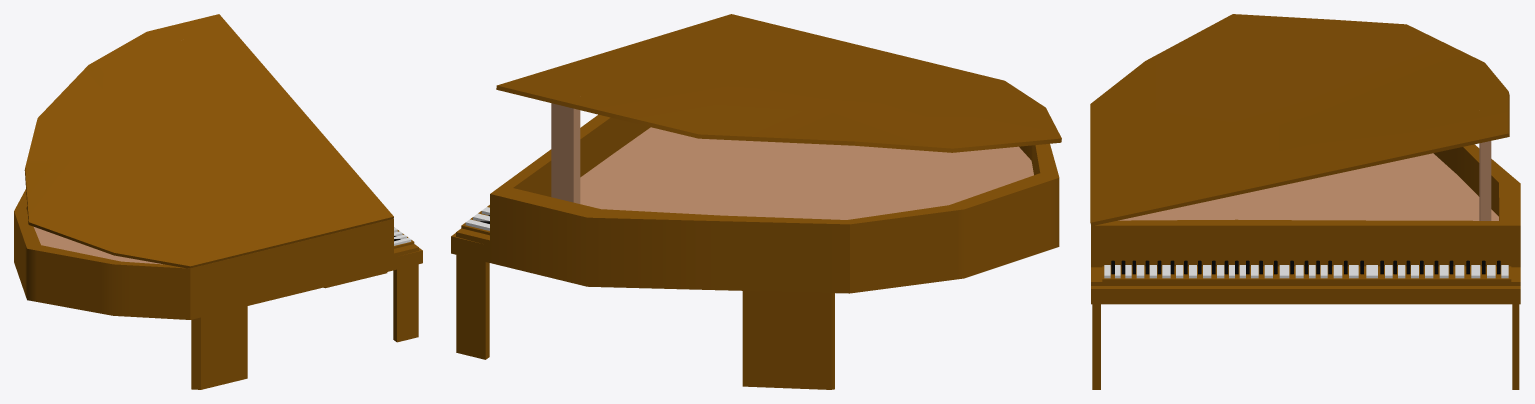
File: Piano.fbx
The picture shows the model from 3 angles, left to right: view 1: azimuth 30°, elevation 25°; view 2: azimuth 150°, elevation 25°; view 3: azimuth 270°, elevation 25°; orthographic projection. The views are drawn at different scales.
Parts seen in each view (by area): view 1: pCube33; view 2: pCube33; view 3: pCube33.
Boxes of the visible parts, <box> form: pCube33: <box>14,14,422,389</box>; pCube33: <box>451,14,1061,389</box>; pCube33: <box>1090,14,1520,389</box>.
Size of the model in its own units: 14.96 by 8.63 by 13.92.
